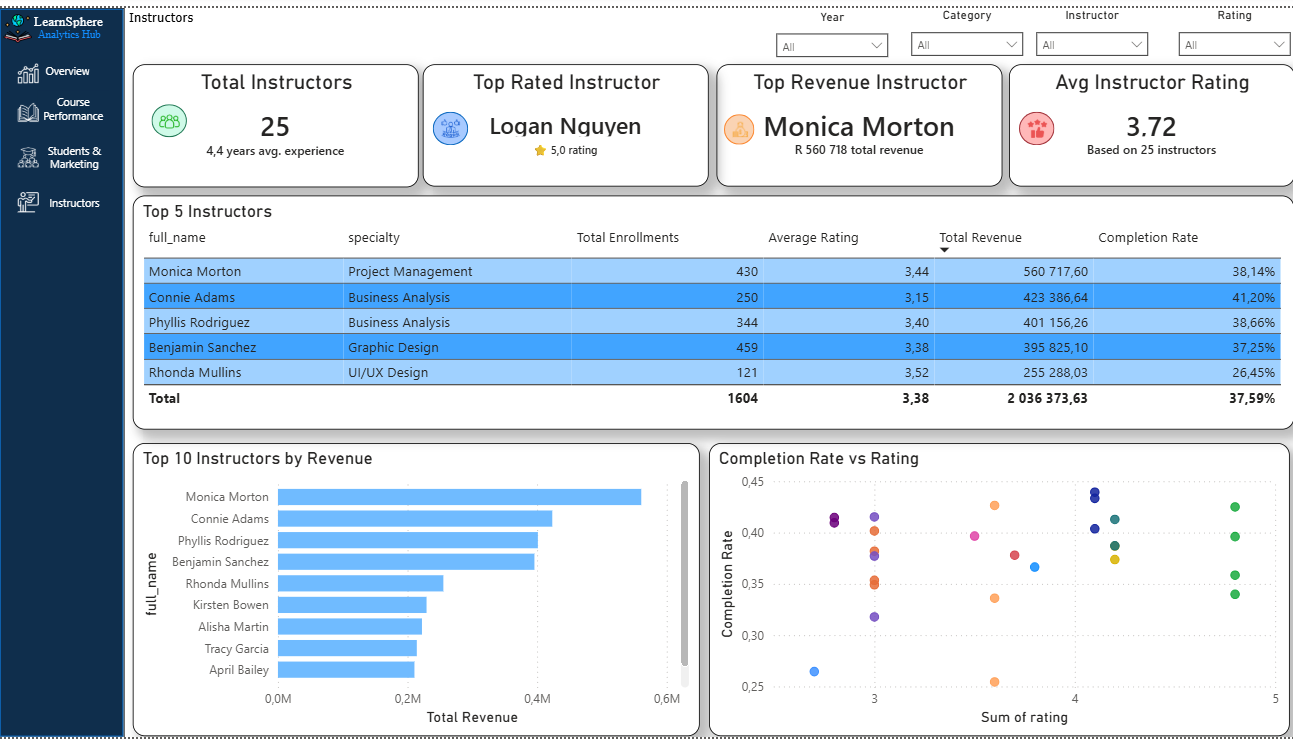

What the dashboard file says about the page in this screenshot:
{"tool":"powerbi","page":{"name":"Instructors","canvas":[1280,720],"ordinal":3},"visuals":[{"type":"group","id":"g1","title":"Group 1","box":[0,0,124,720.8],"z":0},{"type":"shape","box":[0,0,124,720.8],"z":0,"group":"g1"},{"type":"image","box":[3.6,6,30,28],"z":1000,"group":"g1"},{"type":"cardVisual","title":"Top Revenue Instructor","fields":{"Data":["Courses.Top Revenue Instructor"]},"box":[708.1,55,282,121],"z":1000},{"type":"textbox","title":"LearnSphere","box":[29.6,6.4,79.6,13.6],"z":2000,"group":"g1"},{"type":"cardVisual","title":"Total Instructors","fields":{"Data":["Courses.Total Instructors"]},"box":[132,55,282.5,121.2],"z":2000},{"type":"textbox","title":"Analytics Hub","box":[32.8,20,73.2,13.6],"z":3000,"group":"g1"},{"type":"shape","box":[1016,119,38,32],"z":3000},{"type":"actionButton","box":[42,50.8,70,23.2],"z":4000,"group":"g1"},{"type":"cardVisual","title":"Top Rated Instructor","fields":{"Data":["Courses.Top Rated Instructor"]},"box":[418.3,55,282.5,120.8],"z":4000},{"type":"cardVisual","title":"Avg Instructor Rating","fields":{"Data":["Courses.Average Instructor Rating"]},"box":[998,55,282,121],"z":5000},{"type":"actionButton","box":[38,81.2,70,37.2],"z":5000,"group":"g1"},{"type":"textbox","title":"Instructors","box":[124,0,142,20],"z":6000},{"type":"actionButton","box":[39.6,127.6,70,40],"z":6000,"group":"g1"},{"type":"shape","box":[428.8,102.5,35,33.1],"z":7000},{"type":"actionButton","box":[40,176,70,31.6],"z":7000,"group":"g1"},{"type":"shape","box":[150.6,95,35,32.5],"z":8000},{"type":"image","box":[18.8,53.6,20.4,23.2],"z":9000,"group":"g1"},{"type":"shape","box":[1007.5,102.5,35,33.1],"z":9000},{"type":"slicer","title":"Year","fields":{"Values":["Date.Year"]},"box":[763,1,120,51],"z":10000},{"type":"image","box":[18,180.4,20.4,23.2],"z":10000,"group":"g1"},{"type":"slicer","title":"Rating","fields":{"Values":["Instructors.rating"]},"box":[1160,0,120,51],"z":11000},{"type":"image","box":[18.8,91.6,20.4,23.2],"z":11000,"group":"g1"},{"type":"slicer","title":"Instructor","fields":{"Values":["Instructors.full_name"]},"box":[1020,0,120,51],"z":12000},{"type":"image","box":[18,136,20.4,23.2],"z":12000,"group":"g1"},{"type":"slicer","title":"Category","fields":{"Values":["Courses.category"]},"box":[896,0,120,51],"z":13000},{"type":"shape","box":[716.2,104.4,30,30],"z":14000,"group":"g2"},{"type":"image","box":[1013.1,110,23.8,18.8],"z":14000},{"type":"image","box":[156.2,102.5,23.1,19.4],"z":15000},{"type":"image","box":[434.4,110,23.1,18.8],"z":16000},{"type":"group","id":"g2","title":"Group 2","box":[716.2,104.4,30,30],"z":17000},{"type":"image","box":[722,111.7,20,15],"z":18000,"group":"g2"},{"type":"clusteredBarChart","title":"Top 10 Instructors by Revenue","fields":{"Category":["Instructors.full_name"],"Y":["Courses.Total Revenue"]},"box":[132.2,429.9,559.8,289.7],"z":18000},{"type":"scatterChart","title":"Completion Rate vs Rating","fields":{"X":["Sum(Instructors.rating)"],"Y":["Courses.Completion Rate"],"Category":["Courses.course_title"],"Series":["Instructors.full_name"]},"box":[701.1,429.9,573.6,289.7],"z":19000},{"type":"tableEx","title":"Top 5 Instructors","fields":{"Values":["Instructors.full_name","Instructors.specialty","Courses.Total Enrollments","Courses.Average Rating","Courses.Total Revenue","Courses.Completion Rate"]},"box":[132.2,185.1,1147.1,231],"z":20000}]}

Visuals, with their boxes on the page's 1280x720 design canvas (x1, y1, x2, y2). These are canvas units, not pixel positions in the 1293x740 screenshot, which may show the page scaled, cropped or inside an application window:
"Group 1" group: [x1=0, y1=0, x2=124, y2=721]
shape: [x1=0, y1=0, x2=124, y2=721]
image: [x1=4, y1=6, x2=34, y2=34]
"Top Revenue Instructor" cardVisual: [x1=708, y1=55, x2=990, y2=176]
"LearnSphere" textbox: [x1=30, y1=6, x2=109, y2=20]
"Total Instructors" cardVisual: [x1=132, y1=55, x2=414, y2=176]
"Analytics Hub" textbox: [x1=33, y1=20, x2=106, y2=34]
shape: [x1=1016, y1=119, x2=1054, y2=151]
actionButton: [x1=42, y1=51, x2=112, y2=74]
"Top Rated Instructor" cardVisual: [x1=418, y1=55, x2=701, y2=176]
"Avg Instructor Rating" cardVisual: [x1=998, y1=55, x2=1280, y2=176]
actionButton: [x1=38, y1=81, x2=108, y2=118]
"Instructors" textbox: [x1=124, y1=0, x2=266, y2=20]
actionButton: [x1=40, y1=128, x2=110, y2=168]
shape: [x1=429, y1=102, x2=464, y2=136]
actionButton: [x1=40, y1=176, x2=110, y2=208]
shape: [x1=151, y1=95, x2=186, y2=128]
image: [x1=19, y1=54, x2=39, y2=77]
shape: [x1=1008, y1=102, x2=1042, y2=136]
"Year" slicer: [x1=763, y1=1, x2=883, y2=52]
image: [x1=18, y1=180, x2=38, y2=204]
"Rating" slicer: [x1=1160, y1=0, x2=1280, y2=51]
image: [x1=19, y1=92, x2=39, y2=115]
"Instructor" slicer: [x1=1020, y1=0, x2=1140, y2=51]
image: [x1=18, y1=136, x2=38, y2=159]
"Category" slicer: [x1=896, y1=0, x2=1016, y2=51]
shape: [x1=716, y1=104, x2=746, y2=134]
image: [x1=1013, y1=110, x2=1037, y2=129]
image: [x1=156, y1=102, x2=179, y2=122]
image: [x1=434, y1=110, x2=458, y2=129]
"Group 2" group: [x1=716, y1=104, x2=746, y2=134]
image: [x1=722, y1=112, x2=742, y2=127]
"Top 10 Instructors by Revenue" clusteredBarChart: [x1=132, y1=430, x2=692, y2=720]
"Completion Rate vs Rating" scatterChart: [x1=701, y1=430, x2=1275, y2=720]
"Top 5 Instructors" tableEx: [x1=132, y1=185, x2=1279, y2=416]
